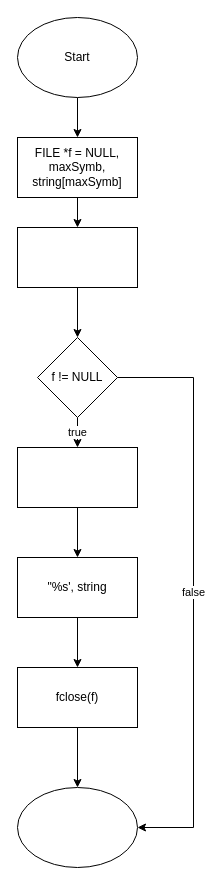
The diagram is 222 pixels wide and 885 high, and some of its shapes have lost their labels. The shapes that lost their labels are listed below. From the top down, each one's box as (x1, y1, x2, y2) in pixels, then its label:
(16, 226, 138, 288): f = fopen("r")
(16, 446, 138, 508): string, maxSymb, f
(16, 786, 138, 868): End
